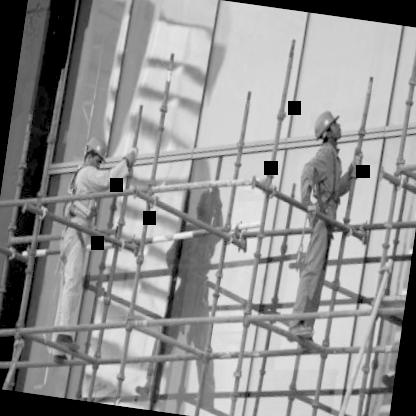helmet: (308, 106, 340, 146), (80, 133, 111, 174)
